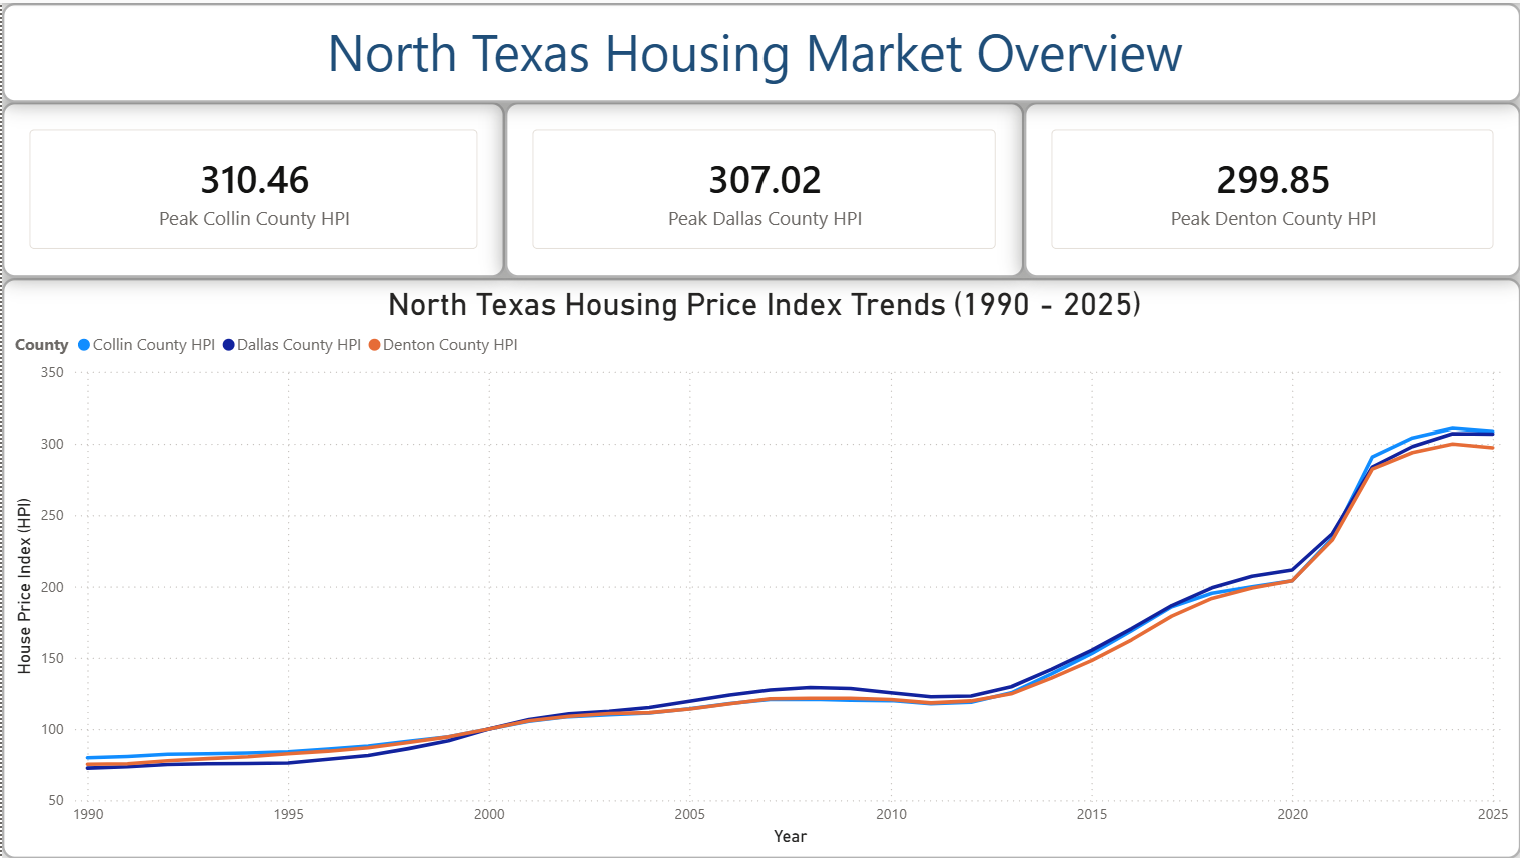

The page's visual inventory and layout, read from the dashboard file:
{"tool":"powerbi","page":{"name":"North Texas Housing Market Overview","canvas":[1280,720],"ordinal":0},"visuals":[{"type":"lineChart","title":"North Texas Housing Price Index Trends (1990 - 2025)","fields":{"Category":["north_texas_macro_dataset.year"],"Y":["Sum(north_texas_macro_dataset.collin_hpi)","Sum(north_texas_macro_dataset.dallas_hpi)","Sum(north_texas_macro_dataset.denton_hpi)"]},"box":[0,231.8,1280,488.8],"z":0},{"type":"cardVisual","title":"Collin County","fields":{"Data":["Max(north_texas_macro_dataset.Collin County HPI)"]},"box":[0,83.8,424,147.7],"z":1000},{"type":"cardVisual","title":"Dallas County","fields":{"Data":["Max(north_texas_macro_dataset.Dallas County HPI)"]},"box":[424,83.8,437,147.7],"z":2000},{"type":"cardVisual","title":"Denton County","fields":{"Data":["Max(north_texas_macro_dataset.Denton County HPI)"]},"box":[861,83.8,419,147.7],"z":3000},{"type":"textbox","box":[0,0,1280,83.8],"z":4000}]}

Visuals, with their boxes in screenshot pixels (x1, y1, x2, y2), scaled from the page's 1280x720 canvas onto the 1520x858 screenshot:
"North Texas Housing Price Index Trends (1990 - 2025)" lineChart: <region>0, 276, 1519, 857</region>
"Collin County" cardVisual: <region>0, 100, 504, 276</region>
"Dallas County" cardVisual: <region>504, 100, 1022, 276</region>
"Denton County" cardVisual: <region>1022, 100, 1519, 276</region>
textbox: <region>0, 0, 1519, 100</region>
